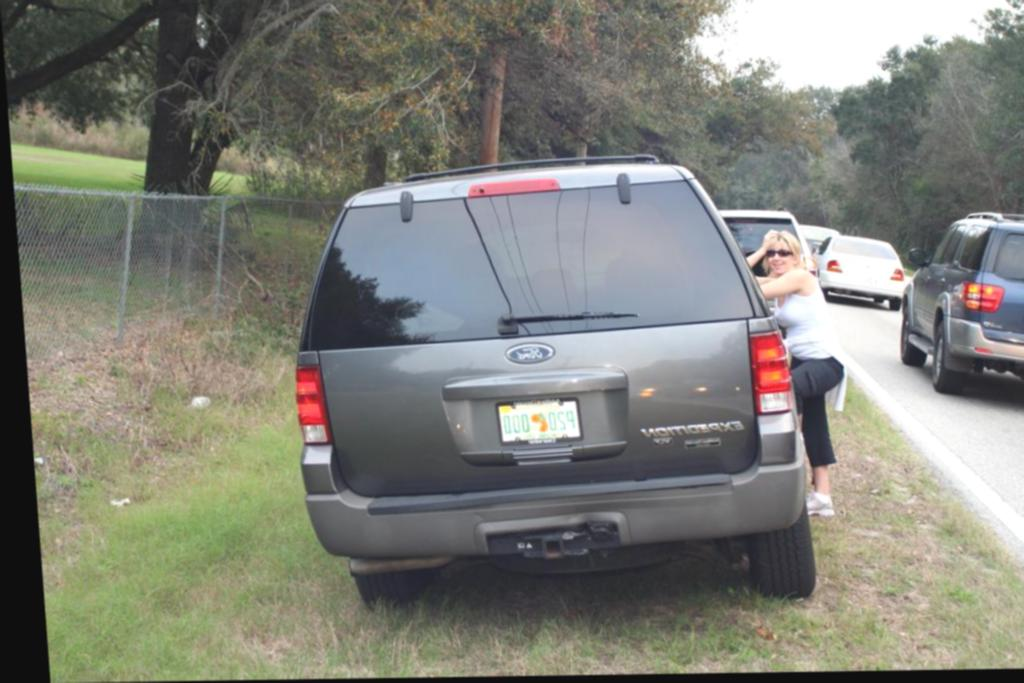License_Plate: (495, 393, 586, 445)
